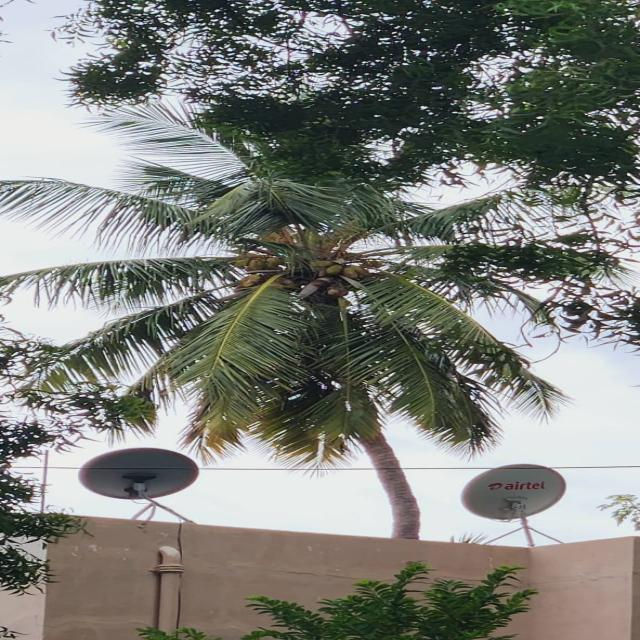Coconut-tree: (44, 125, 492, 521)
